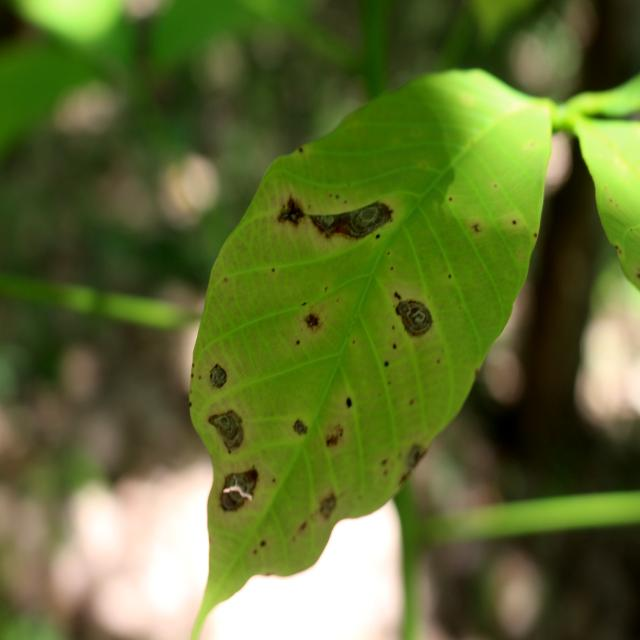Colletotrichum: (209, 364, 227, 389), (399, 302, 411, 318), (346, 398, 352, 408)
